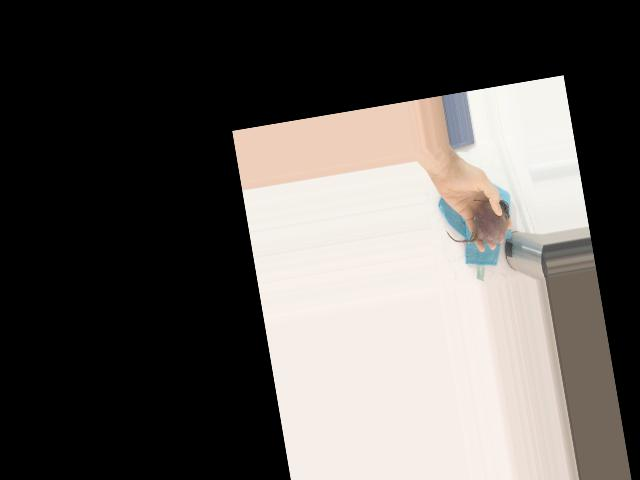beet: (442, 195, 514, 251)
